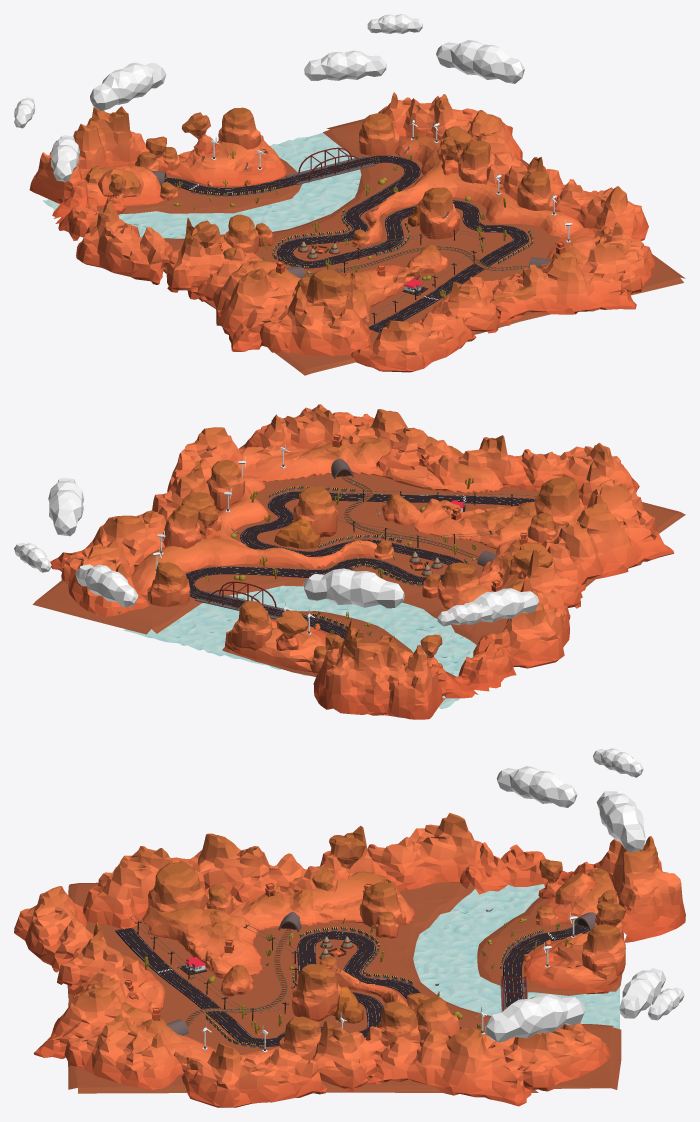
The model's file is track-draco.glb.
The picture shows the model from 3 angles, top to bottom: view 1: azimuth 30°, elevation 25°; view 2: azimuth 150°, elevation 25°; view 3: azimuth 270°, elevation 25°; orthographic projection. The views are drawn at different scales.
Parts seen in each view (by area): view 1: Plane.006, Plane.054, Plane.058, Plane.055, Plane.005, Plane.021, Plane.089, Plane.057, Plane.017, Cliff4.002, Mball.003, Mball.006 (+18 smaller); view 2: Plane.006, Plane.054, Plane.021, Plane.058, Plane.057, Plane.055, Plane.089, Plane.005, Cliff4.002, Mball.006, Plane.017, Cliff2.018 (+20 smaller); view 3: Plane.006, Plane.055, Plane.058, Plane.054, Cliff4.002, Plane.089, Plane.057, Plane.005, Plane.017, Plane.021, Mball.003, Cliff2.018 (+20 smaller).
Boxes of the visible parts, bbox=[...] form: Plane.006: bbox=[97, 118, 685, 375]; Plane.054: bbox=[76, 200, 372, 355]; Plane.058: bbox=[351, 222, 654, 372]; Plane.055: bbox=[378, 92, 648, 240]; Plane.005: bbox=[164, 155, 528, 333]; Plane.021: bbox=[365, 136, 610, 313]; Plane.089: bbox=[43, 133, 361, 238]; Plane.057: bbox=[29, 106, 171, 240]; Plane.017: bbox=[83, 135, 286, 207]; Cliff4.002: bbox=[216, 234, 448, 321]; Mball.003: bbox=[436, 40, 524, 83]; Mball.006: bbox=[90, 62, 166, 111]; Plane.006: bbox=[32, 417, 685, 677]; Plane.054: bbox=[497, 462, 673, 668]; Plane.021: bbox=[131, 436, 503, 594]; Plane.058: bbox=[244, 404, 639, 492]; Plane.057: bbox=[313, 618, 516, 719]; Plane.055: bbox=[50, 427, 244, 616]; Plane.089: bbox=[123, 585, 476, 708]; Plane.005: bbox=[186, 491, 534, 639]; Cliff4.002: bbox=[382, 493, 565, 609]; Mball.006: bbox=[303, 568, 404, 608]; Plane.017: bbox=[225, 620, 407, 671]; Cliff2.018: bbox=[534, 477, 585, 527]; Plane.006: bbox=[67, 882, 624, 1093]; Plane.055: bbox=[181, 1021, 610, 1107]; Plane.058: bbox=[14, 886, 183, 1090]; Plane.054: bbox=[83, 812, 487, 929]; Cliff4.002: bbox=[142, 871, 414, 996]; Plane.089: bbox=[413, 884, 619, 1028]; Plane.057: bbox=[460, 836, 685, 942]; Plane.005: bbox=[115, 924, 588, 1046]; Plane.017: bbox=[524, 868, 620, 994]; Plane.021: bbox=[86, 955, 515, 1072]; Mball.003: bbox=[485, 994, 585, 1042]; Cliff2.018: bbox=[148, 862, 207, 911].
Size of the model in its own units: 22.04 by 5.11 by 24.62.
2 materials, 2 textured.
